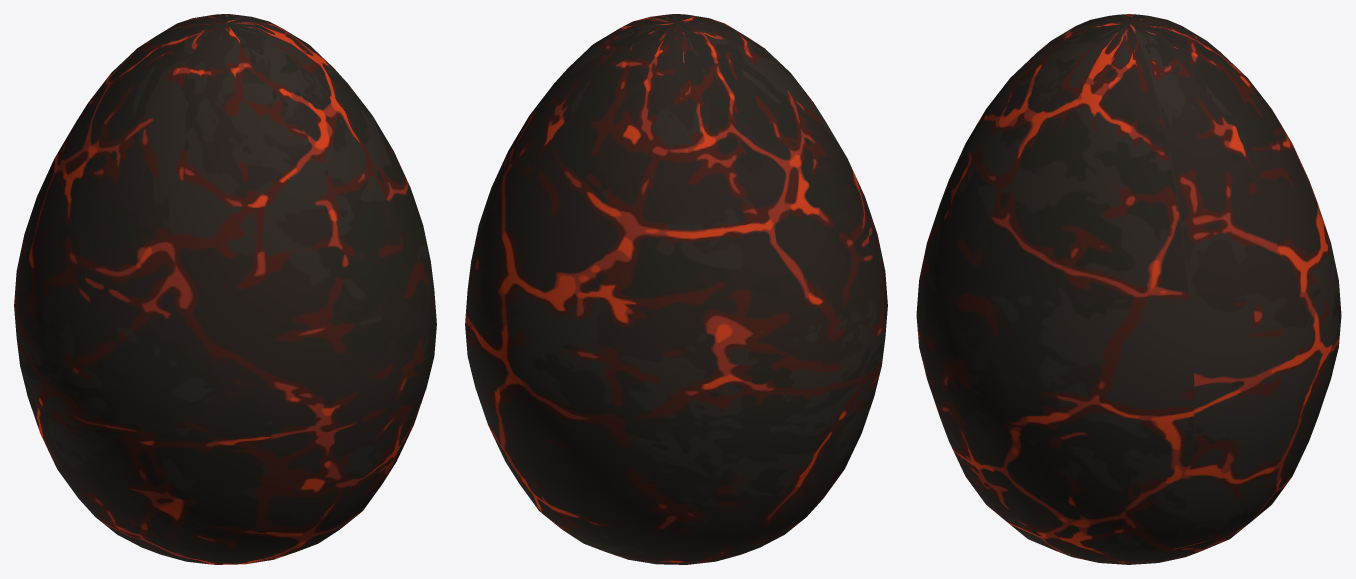
The model's file is dragon egg.fbx.
3 renders of one model, left to right at view 1: azimuth 30°, elevation 25°; view 2: azimuth 150°, elevation 25°; view 3: azimuth 270°, elevation 25°, orthographic.
Parts seen in each view (by area): view 1: pSphere1; view 2: pSphere1; view 3: pSphere1.
Part boxes in pixels (<box>): pSphere1: <box>14,14,436,564</box>; pSphere1: <box>465,14,887,564</box>; pSphere1: <box>916,14,1341,564</box>.
Size of the model in its own units: 2 by 2.71 by 2.
